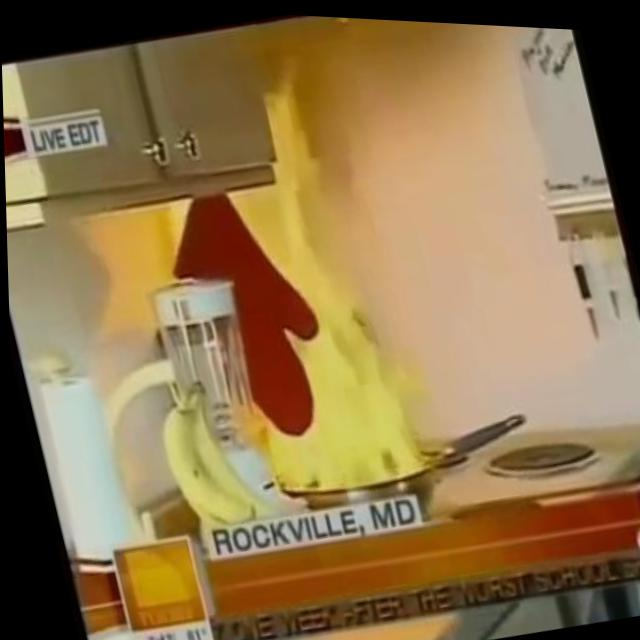fire: (184, 99, 435, 508)
